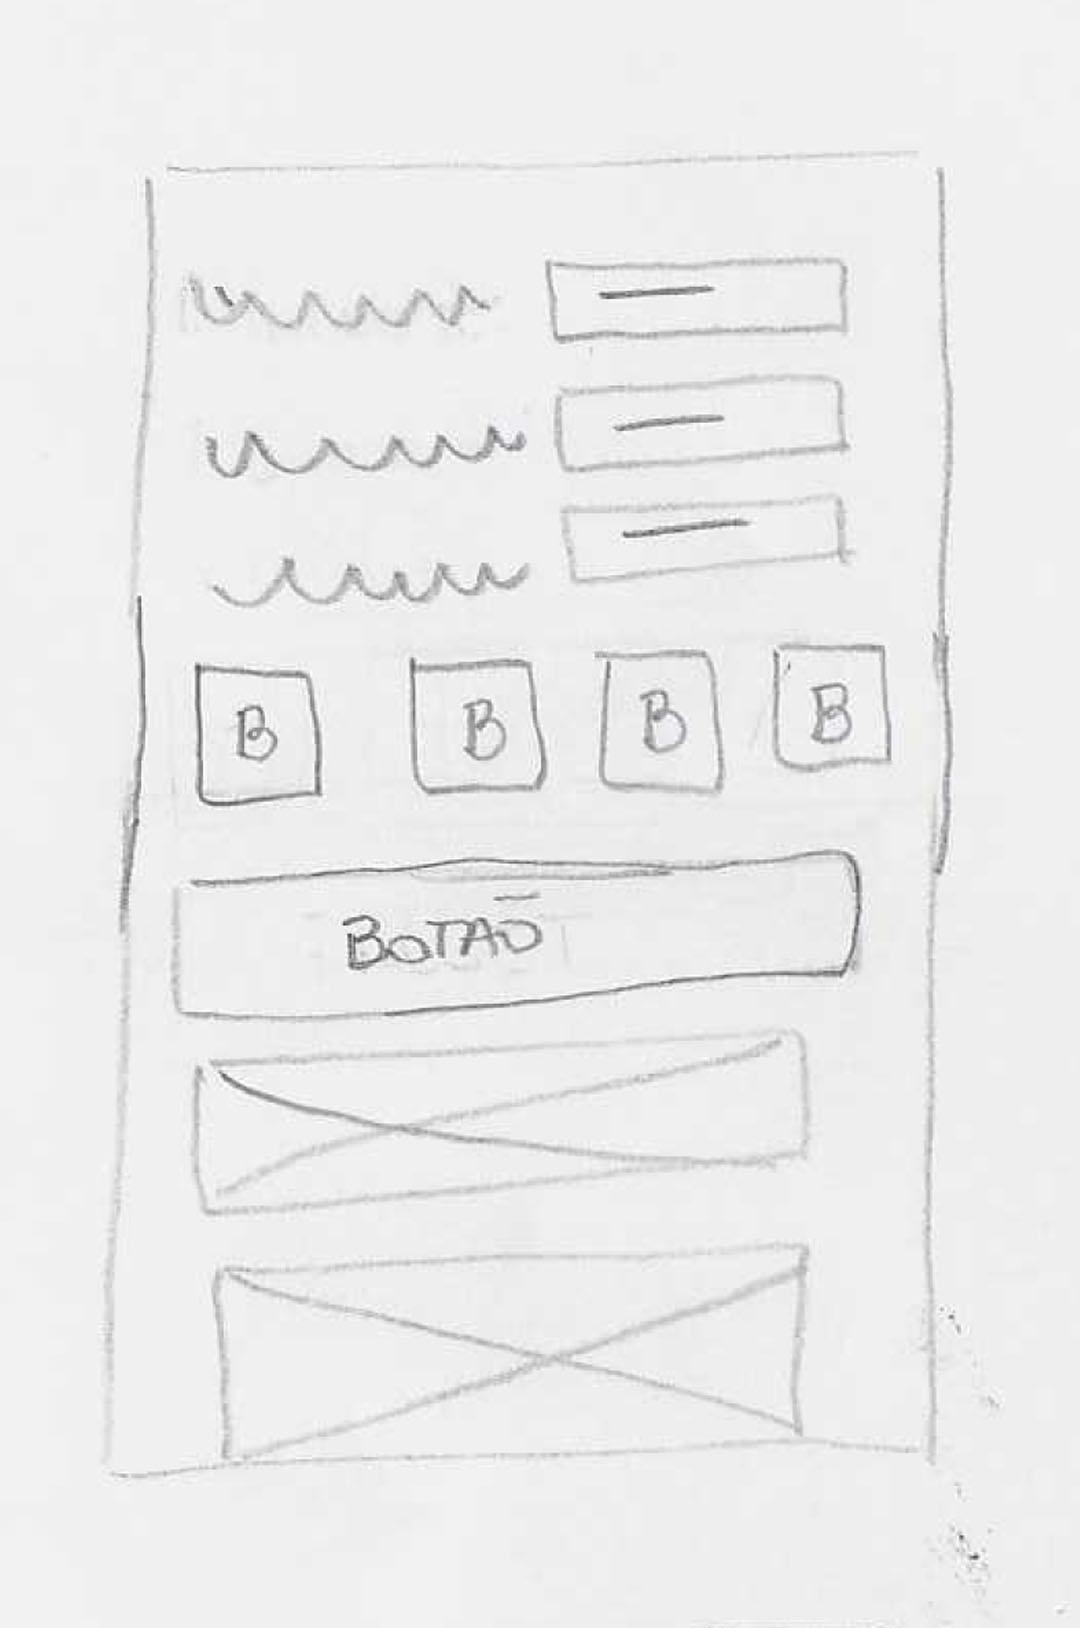Button: (172, 851, 861, 1022), (554, 375, 850, 474), (540, 257, 853, 342), (559, 494, 847, 587), (409, 658, 547, 798), (195, 664, 323, 807), (603, 651, 726, 798), (773, 640, 894, 770)
Image: (217, 1246, 808, 1467), (189, 1032, 811, 1219)
Label: (205, 417, 530, 486), (211, 552, 530, 609), (182, 278, 498, 329)
Screen: (102, 152, 955, 1481)
